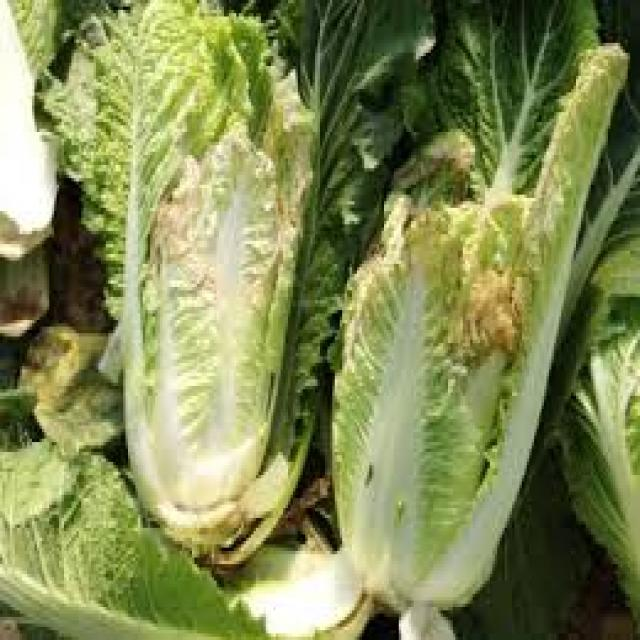organic waste: (337, 36, 625, 637), (35, 10, 332, 564), (0, 422, 290, 636), (261, 0, 438, 277), (470, 436, 638, 636), (546, 304, 638, 636), (0, 0, 74, 254), (219, 538, 369, 636)
